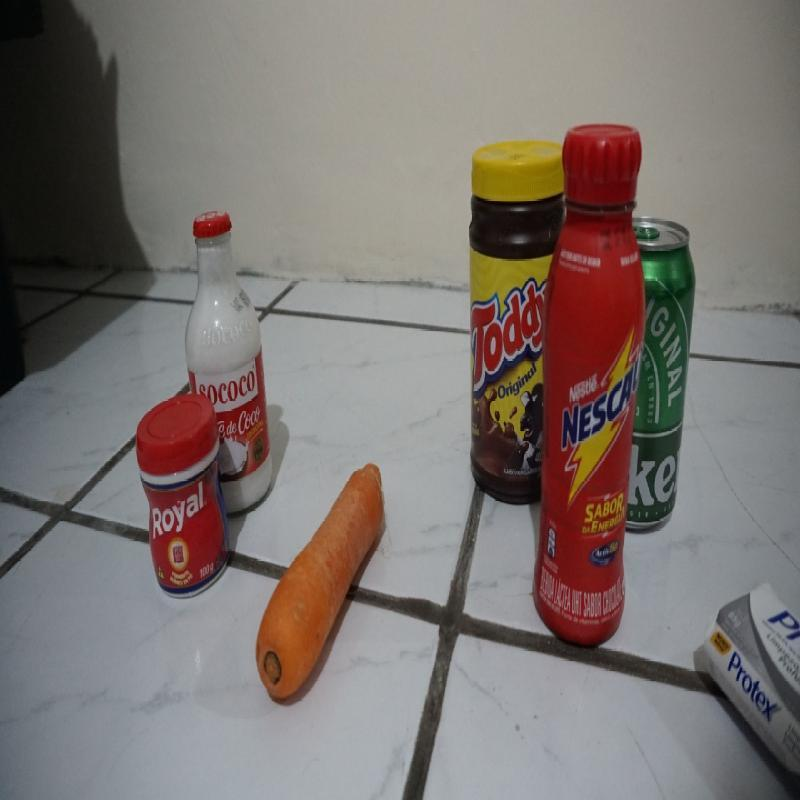Beer can: (636, 197, 697, 532)
Carrot: (258, 461, 388, 710)
Chocolate Milk: (545, 112, 634, 641)
Chocolate Powder: (463, 136, 546, 506)
Coconut Milk: (185, 215, 281, 466)
Soap: (709, 586, 800, 792)
Yeast: (134, 406, 232, 586)
